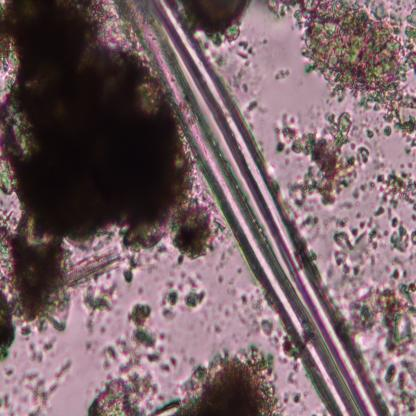Background material: (0, 1, 216, 334), (265, 0, 416, 148), (274, 111, 358, 213), (164, 342, 273, 414), (100, 300, 168, 376), (348, 277, 416, 340), (0, 359, 74, 415), (375, 169, 416, 255), (87, 373, 165, 414), (331, 218, 384, 274), (214, 37, 256, 98), (161, 269, 208, 323), (377, 350, 416, 413), (84, 280, 116, 332), (238, 291, 274, 337), (270, 329, 299, 372), (26, 331, 56, 365), (210, 249, 232, 291), (214, 307, 234, 335), (354, 144, 374, 168), (298, 213, 320, 232), (242, 98, 258, 119), (278, 389, 300, 404), (161, 357, 178, 374), (84, 336, 100, 354), (273, 67, 292, 82), (382, 123, 392, 137), (364, 128, 375, 140)
Diatom: (63, 244, 119, 286), (185, 0, 248, 37)
